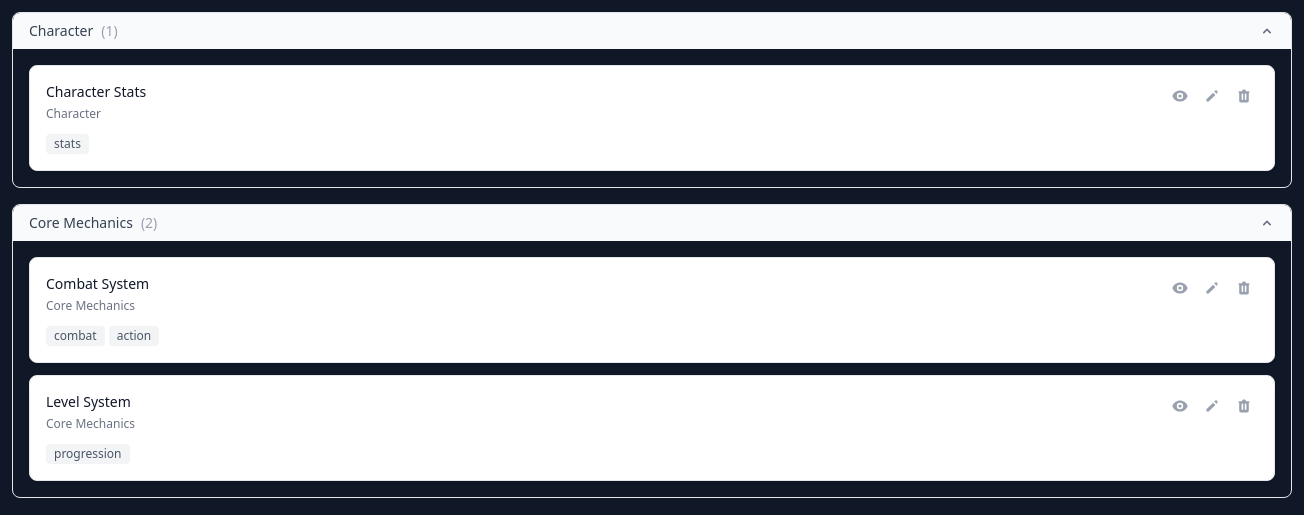
SystemList › Category Collapse › should expand collapsed category when header clicked again
Step 1. Click the button "Core Mechanics(2)" → click(81, 222), box top-left (13, 205), bottom-right (1291, 241)
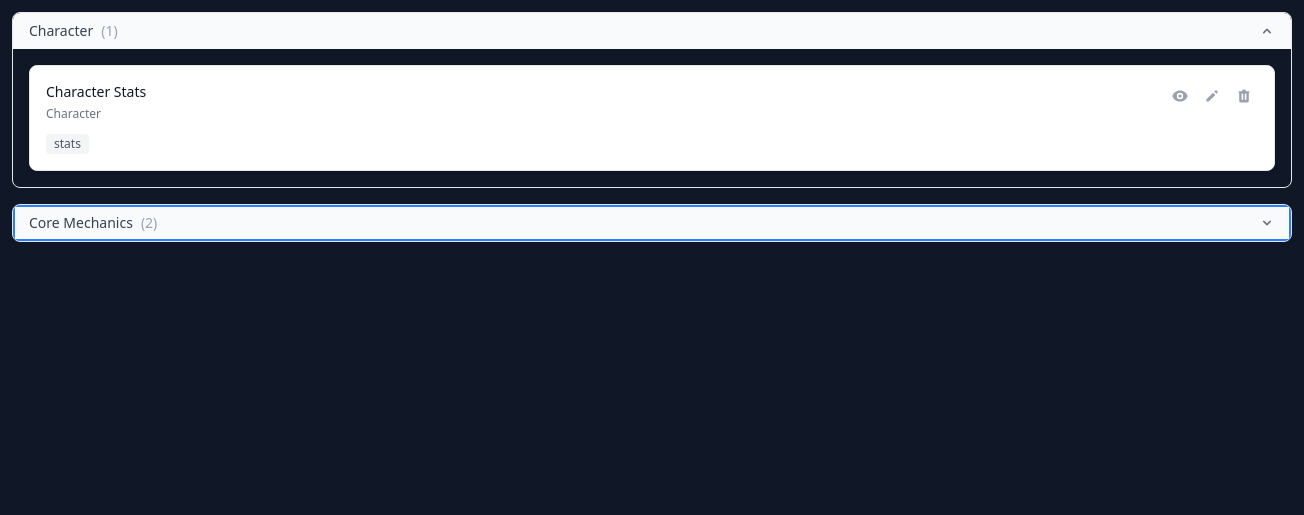
Check: the heading "Combat System" is gone
Step 2. Click the button "Core Mechanics(2)" → click(81, 222), box top-left (13, 205), bottom-right (1291, 241)
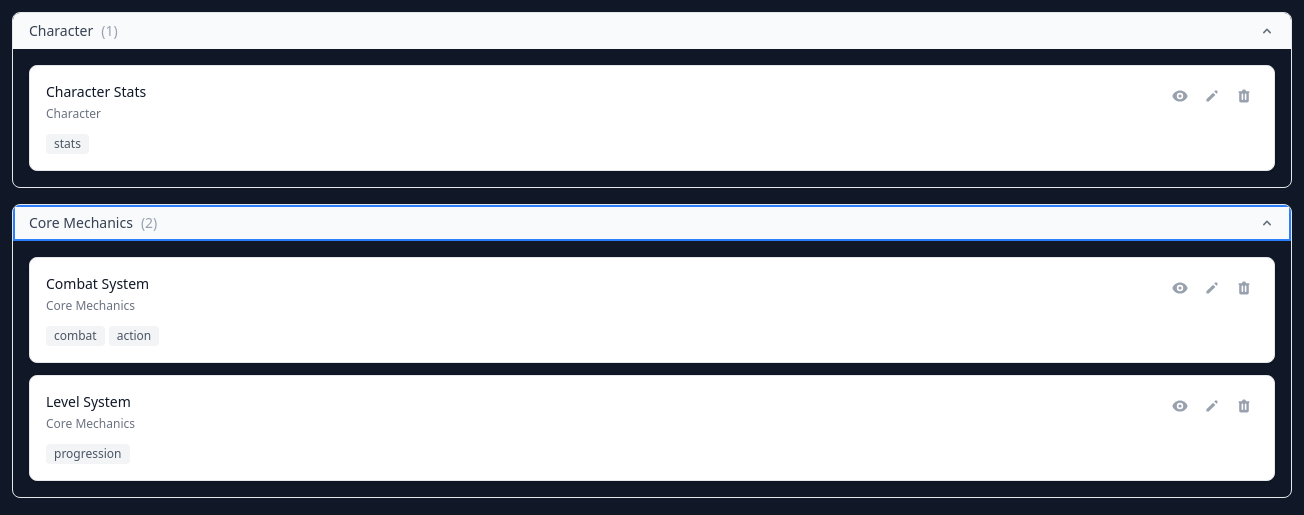
Check: the heading "Combat System" is shown, box top-left (46, 274), bottom-right (149, 293)
